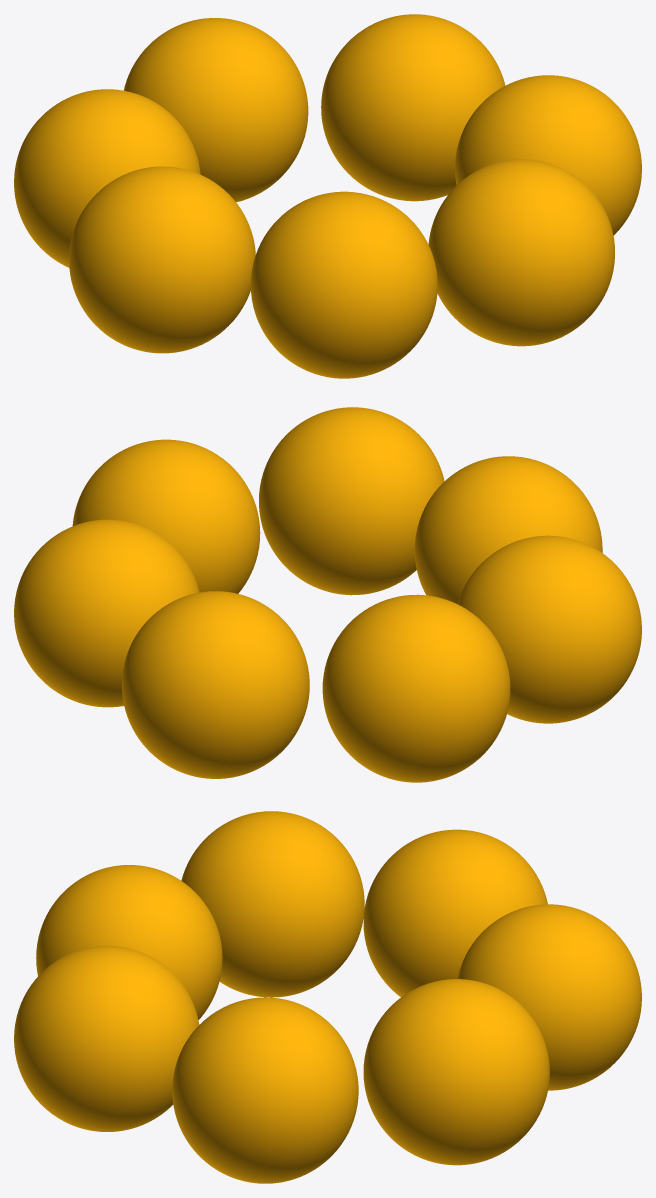
File: esferas_del_dragon_corrigido.glb
The picture shows the model from 3 angles, top to bottom: view 1: azimuth 30°, elevation 25°; view 2: azimuth 150°, elevation 25°; view 3: azimuth 270°, elevation 25°; orthographic projection.
Visible parts, largest first — view 1: 5 Estrellas_4, 6 Estrellas_5, 4 Estrellas_3, 2 Estrellas_1, 1 Estrella_0, 7 Estrellas_6, 3 Estrellas_2; view 2: 7 Estrellas_6, 1 Estrella_0, 4 Estrellas_3, 6 Estrellas_5, 2 Estrellas_1, 3 Estrellas_2, 5 Estrellas_4; view 3: 3 Estrellas_2, 2 Estrellas_1, 4 Estrellas_3, 6 Estrellas_5, 1 Estrella_0, 7 Estrellas_6, 5 Estrellas_4.
Boxes of the visible parts, box(x1,y1,x2,y2) form: 5 Estrellas_4: box(250, 191, 437, 378); 6 Estrellas_5: box(69, 166, 255, 353); 4 Estrellas_3: box(428, 159, 614, 346); 2 Estrellas_1: box(321, 14, 505, 201); 1 Estrella_0: box(124, 18, 308, 202); 7 Estrellas_6: box(14, 89, 200, 267); 3 Estrellas_2: box(455, 75, 641, 235); 7 Estrellas_6: box(322, 594, 510, 782); 1 Estrella_0: box(122, 591, 309, 778); 4 Estrellas_3: box(259, 407, 444, 595); 6 Estrellas_5: box(458, 535, 641, 723); 2 Estrellas_1: box(14, 519, 199, 707); 3 Estrellas_2: box(72, 439, 260, 593); 5 Estrellas_4: box(414, 456, 602, 603); 3 Estrellas_2: box(172, 997, 358, 1183); 2 Estrellas_1: box(363, 979, 549, 1165); 4 Estrellas_3: box(14, 945, 199, 1131); 6 Estrellas_5: box(181, 811, 364, 997); 1 Estrella_0: box(457, 904, 641, 1090); 7 Estrellas_6: box(363, 829, 547, 996); 5 Estrellas_4: box(36, 865, 222, 1019).
Size of the model in its own units: 0.4255 by 0.1265 by 0.4261.
